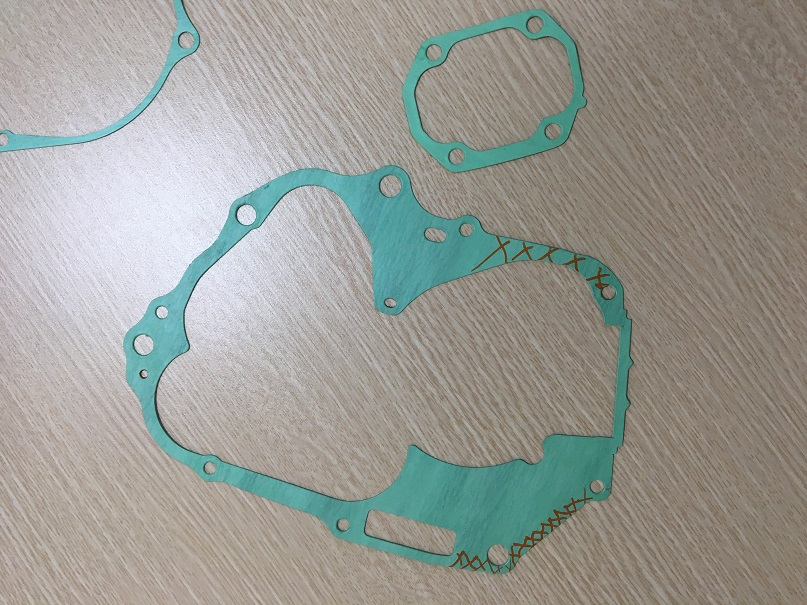type2: (400, 6, 593, 174)
type3: (113, 153, 636, 585)
